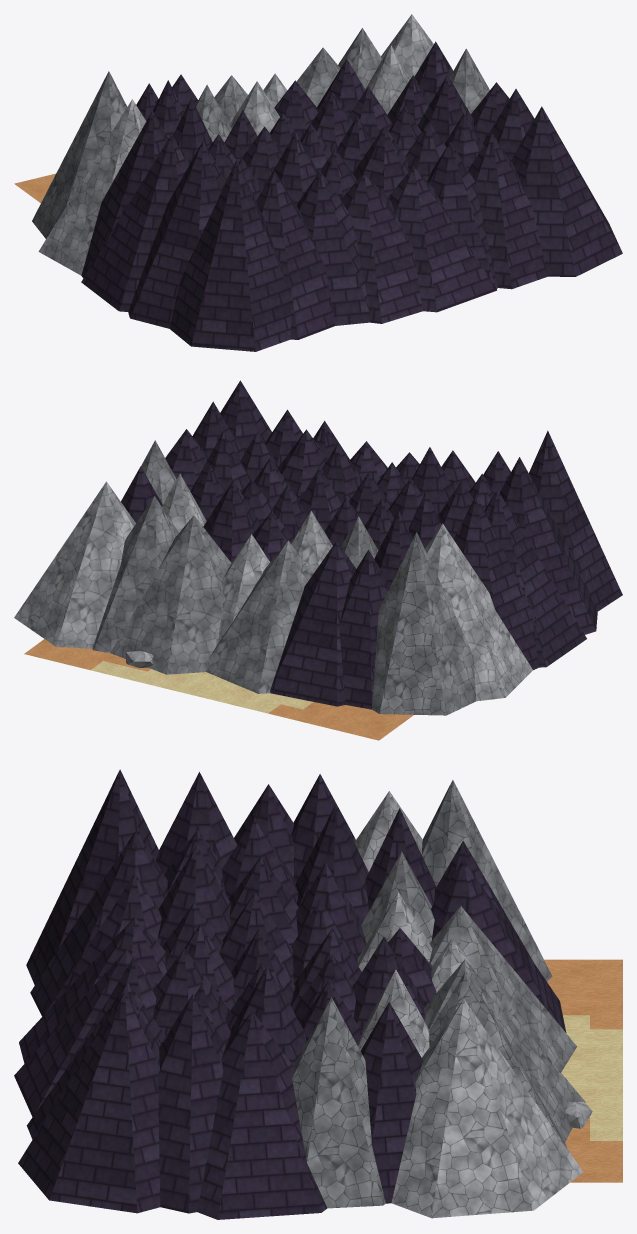
Rendered from chunk_10_23.glb.
3 renders of one model, top to bottom at view 1: azimuth 30°, elevation 25°; view 2: azimuth 150°, elevation 25°; view 3: azimuth 270°, elevation 25°, orthographic. The views are drawn at different scales.
Parts seen in each view (by area): view 1: chunk_10_23; view 2: chunk_10_23; view 3: chunk_10_23.
Part boxes in pixels (left/top/right/bottom): chunk_10_23: left=14, top=14, right=622, bottom=351; chunk_10_23: left=14, top=380, right=622, bottom=740; chunk_10_23: left=14, top=769, right=622, bottom=1219.
Size of the model in its own units: 21.01 by 7.28 by 18.45.
7 materials, 7 textured.
